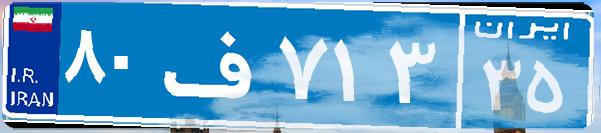0: (110, 28, 158, 105)
1: (330, 28, 385, 110)
3: (385, 28, 445, 110), (475, 38, 525, 113)
5: (525, 38, 570, 115)
7: (273, 28, 330, 110)
8: (57, 26, 110, 107)
ف: (158, 15, 273, 115)
